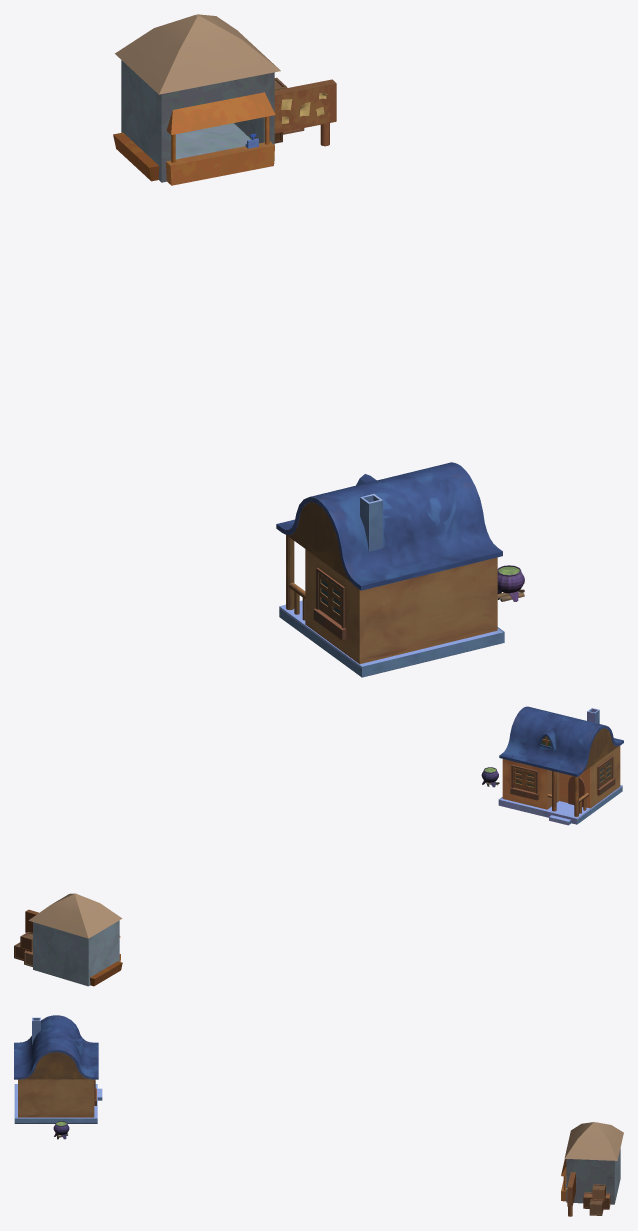
Rendered from buildings.fbx.
3 renders of one model, top to bottom at view 1: azimuth 30°, elevation 25°; view 2: azimuth 150°, elevation 25°; view 3: azimuth 270°, elevation 25°, orthographic. The views are drawn at different scales.
Visible parts, largest first — view 1: roof (×2), house_walls, fishstand_walls, house_base, countertop, countertop_cover, notice_board, roof_wall, chimney, flowerpot; view 2: roof (×2), fishstand_walls, house_walls, house_base, roof_wall, window_blinds; view 3: roof (×2), house_walls, fishstand_walls, roof_wall, house_base.
Part boxes in pixels (<box>): roof (×2): <box>115,14,502,590</box>; house_walls: <box>305,549,497,664</box>; fishstand_walls: <box>121,60,274,182</box>; house_base: <box>279,600,504,677</box>; countertop: <box>166,141,274,185</box>; countertop_cover: <box>166,92,275,134</box>; notice_board: <box>274,79,336,133</box>; roof_wall: <box>287,502,350,581</box>; chimney: <box>360,494,382,551</box>; flowerpot: <box>113,132,159,181</box>; roof (×2): <box>28,706,623,938</box>; fishstand_walls: <box>33,920,119,986</box>; house_walls: <box>502,746,620,809</box>; house_base: <box>498,785,622,824</box>; roof_wall: <box>583,728,617,771</box>; window_blinds: <box>513,767,535,792</box>; roof (×2): <box>14,1015,623,1160</box>; house_walls: <box>18,1079,94,1117</box>; fishstand_walls: <box>566,1148,620,1204</box>; roof_wall: <box>23,1052,89,1079</box>; house_base: <box>14,1084,97,1123</box>.
Bounding box in the file's own units: 18.54 × 5.19 × 36.86.
